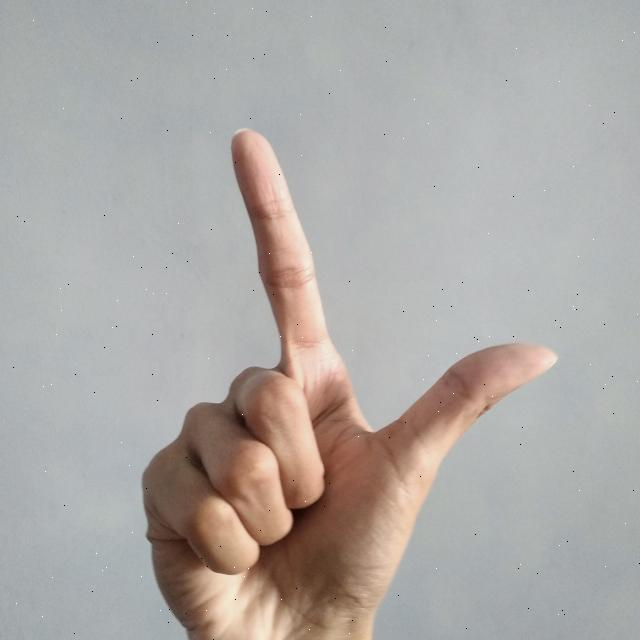L: (130, 123, 564, 640)
